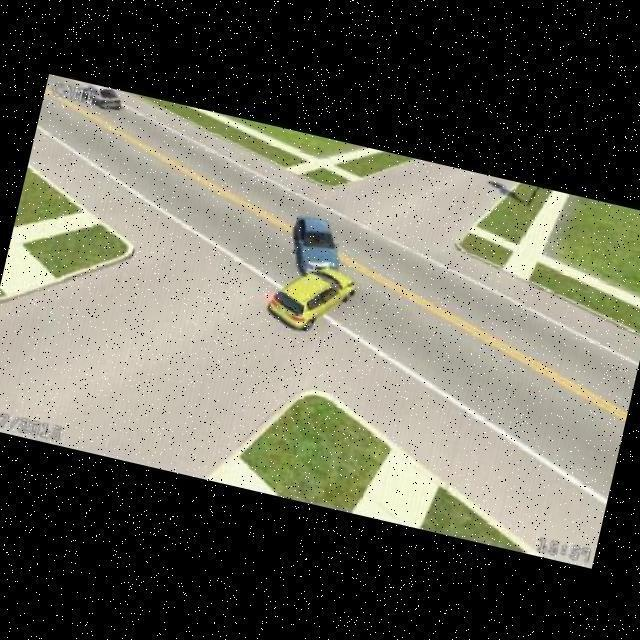accident: (286, 232, 367, 306)
